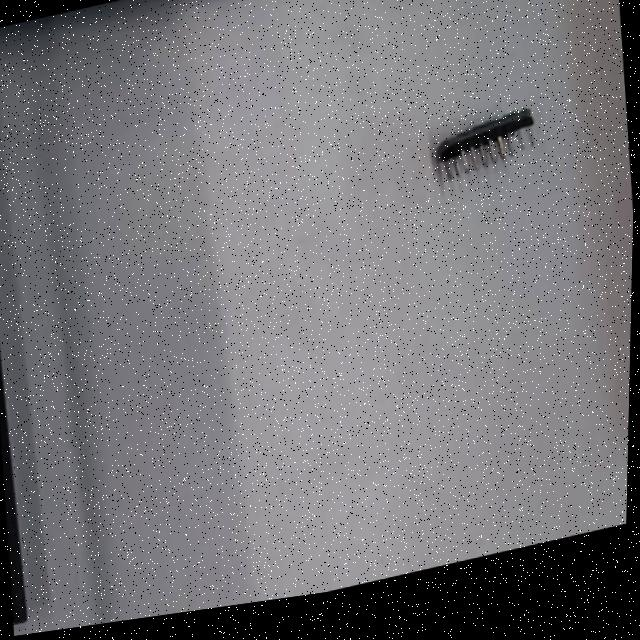Chip: (432, 95, 545, 193)
